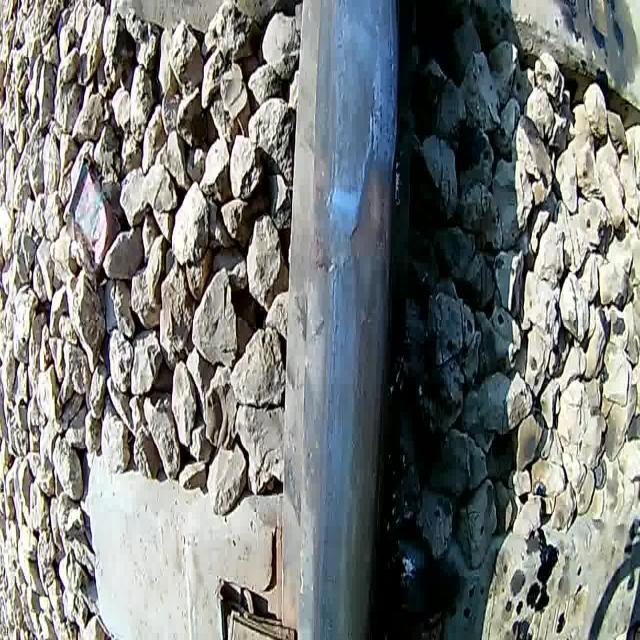Spallings: (301, 217, 349, 285)
Squats: (308, 0, 387, 203), (342, 94, 418, 288)
